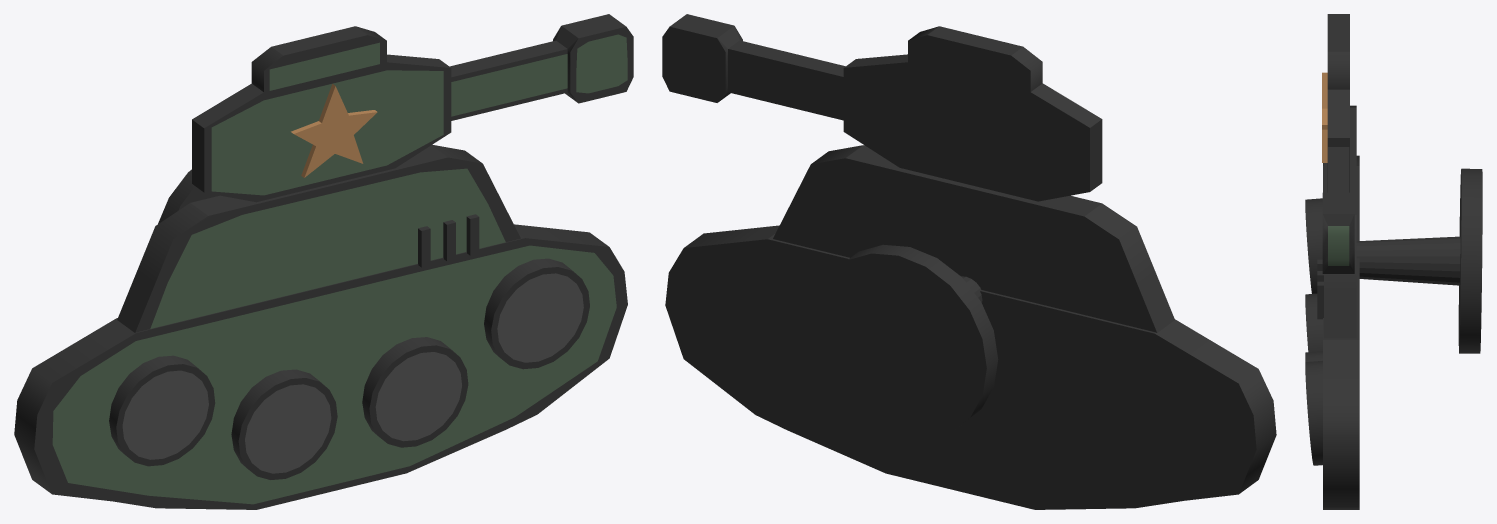
The model's file is tank.fbx.
3 renders of one model, left to right at view 1: azimuth 30°, elevation 25°; view 2: azimuth 150°, elevation 25°; view 3: azimuth 270°, elevation 25°, orthographic. The views are drawn at different scales.
Visible parts, largest first — view 1: polySurface22; view 2: polySurface22; view 3: polySurface22.
Part boxes in pixels (box(x1,y1,x2,y2)): polySurface22: box(14, 14, 633, 509); polySurface22: box(662, 14, 1276, 509); polySurface22: box(1305, 14, 1482, 509).
Bounding box in the file's own units: 7.63 × 5.41 × 2.13.
